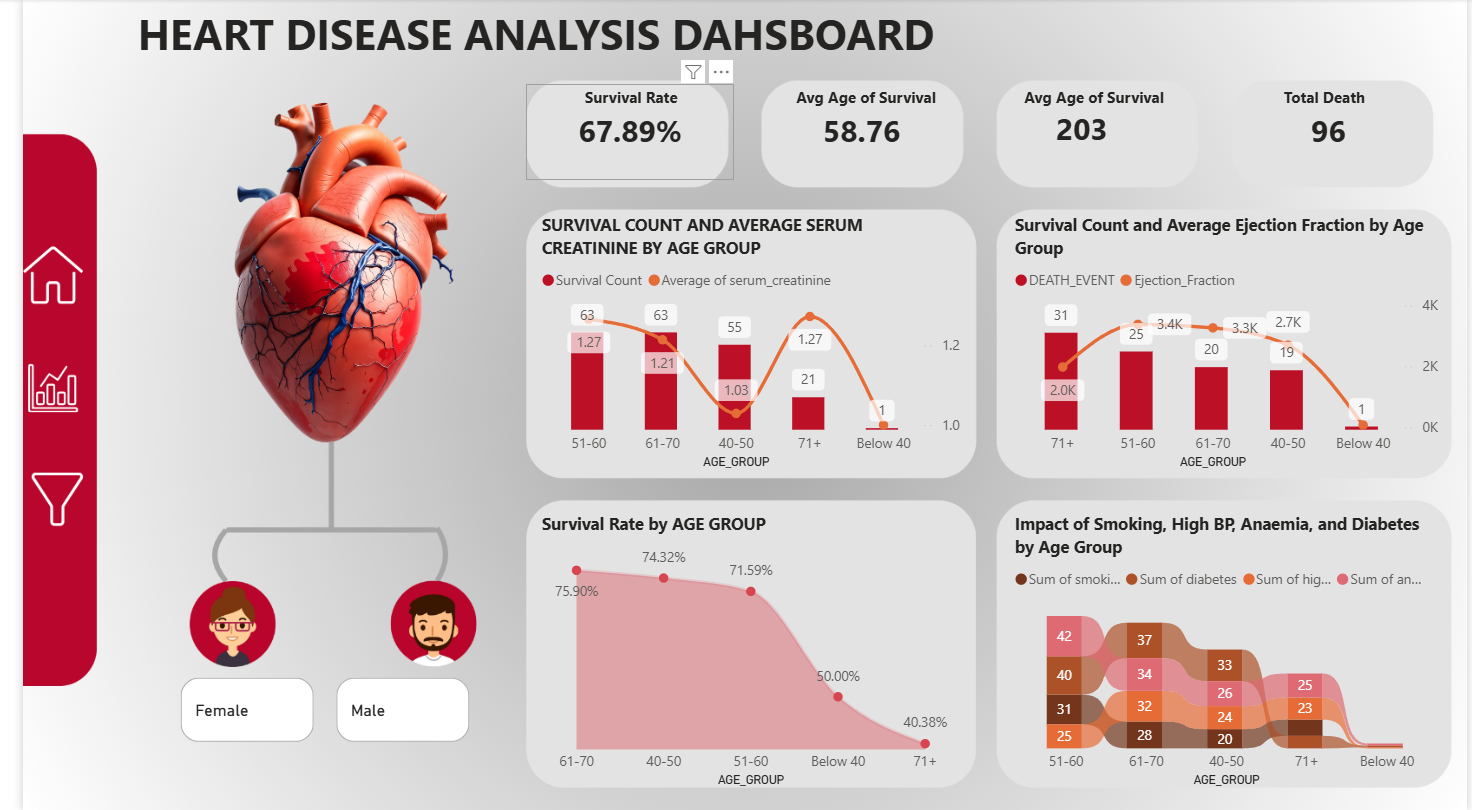

What the dashboard file says about the page in this screenshot:
{"tool":"powerbi","page":{"name":"Page 1","canvas":[1280,720],"ordinal":0},"visuals":[{"type":"textbox","box":[10.5,0,888.6,82.5],"z":0},{"type":"card","fields":{"Values":["heart_Disease_clinical_records_.survival_rate"]},"box":[446,75.5,184.7,84.8],"z":1000},{"type":"card","fields":{"Values":["heart_Disease_clinical_records_.Average_age_survival"]},"box":[645.8,75.5,196.3,84.8],"z":2000},{"type":"card","fields":{"Values":["heart_Disease_clinical_records_.Total_survival"]},"box":[836.3,73.2,205.6,84.8],"z":3000},{"type":"card","fields":{"Values":["heart_Disease_clinical_records_.Total_death"]},"box":[1060.5,75.5,194,84.8],"z":4000},{"type":"lineClusteredColumnComboChart","title":"SURVIVAL COUNT AND AVERAGE SERUM CREATININE BY AGE GROUP","fields":{"Category":["heart_Disease_clinical_records_.AGE_GROUP"],"Y":["CountNonNull(heart_Disease_clinical_records_.DEATH_EVENT)"],"Y2":["Avg(heart_Disease_clinical_records_.serum_creatinine)"]},"box":[455.3,189.3,381,231.1],"z":5000},{"type":"textbox","box":[463.4,73.2,151,34.8],"z":6000},{"type":"textbox","box":[672.5,73.2,151,34.8],"z":7000},{"type":"textbox","box":[874.6,73.2,151,34.8],"z":8000},{"type":"textbox","box":[1060.5,73.2,187,34.8],"z":9000},{"type":"lineClusteredColumnComboChart","title":"Survival Count and Average Ejection Fraction by Age Group","fields":{"Category":["heart_Disease_clinical_records_.AGE_GROUP"],"Y":["Sum(heart_Disease_clinical_records_.DEATH_EVENT)"],"Y2":["Sum(heart_Disease_clinical_records_.ejection_fraction)"]},"box":[874.6,189.3,385.6,231.1],"z":10000},{"type":"lineChart","title":"Survival Rate by AGE_GROUP","fields":{"Category":["heart_Disease_clinical_records_.AGE_GROUP"],"Y":["heart_Disease_clinical_records_.survival_rate"]},"box":[455.3,455.3,381,248.6],"z":11000},{"type":"ribbonChart","title":"Impact of Smoking, High BP, Anaemia, and Diabetes by Age Group","fields":{"Category":["heart_Disease_clinical_records_.AGE_GROUP"],"Y":["Sum(heart_Disease_clinical_records_.smoking)","Sum(heart_Disease_clinical_records_.diabetes)","Sum(heart_Disease_clinical_records_.high_blood_pressure)","Sum(heart_Disease_clinical_records_.anaemia)"]},"box":[874.6,455.3,385.6,248.6],"z":12000},{"type":"advancedSlicerVisual","fields":{"Values":["heart_Disease_clinical_records_.Gender"]},"box":[134.7,597,267.2,67.4],"z":13000}]}

Visuals, with their boxes in screenshot pixels (x1, y1, x2, y2), scaled from the page's 1280x720 canvas onto the 1472x810 screenshot:
textbox: 12/0/1034/93
card - heart_Disease_clinical_records_.survival_rate: 513/85/725/180
card - heart_Disease_clinical_records_.Average_age_survival: 743/85/968/180
card - heart_Disease_clinical_records_.Total_survival: 962/82/1198/178
card - heart_Disease_clinical_records_.Total_death: 1220/85/1443/180
"SURVIVAL COUNT AND AVERAGE SERUM CREATININE BY AGE GROUP" lineClusteredColumnComboChart: 524/213/962/473
textbox: 533/82/707/122
textbox: 773/82/947/122
textbox: 1006/82/1179/122
textbox: 1220/82/1435/122
"Survival Count and Average Ejection Fraction by Age Group" lineClusteredColumnComboChart: 1006/213/1449/473
"Survival Rate by AGE_GROUP" lineChart: 524/512/962/792
"Impact of Smoking, High BP, Anaemia, and Diabetes by Age Group" ribbonChart: 1006/512/1449/792
advancedSlicerVisual - heart_Disease_clinical_records_.Gender: 155/672/462/747
